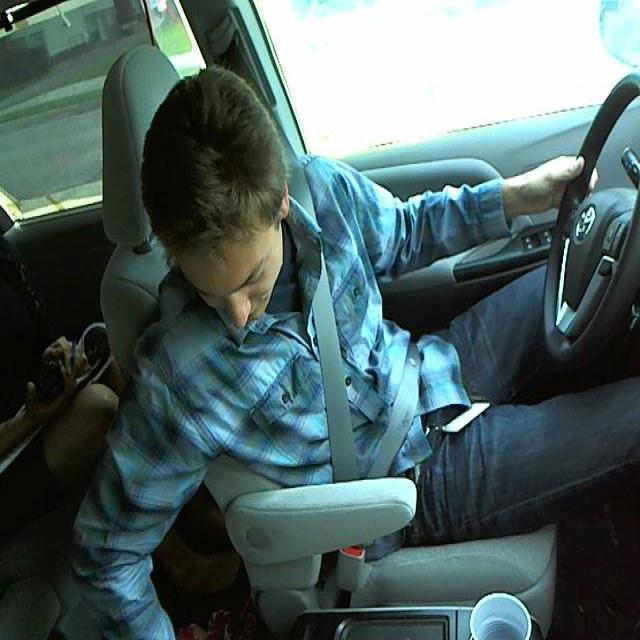seatbelt: (285, 243, 425, 480)
